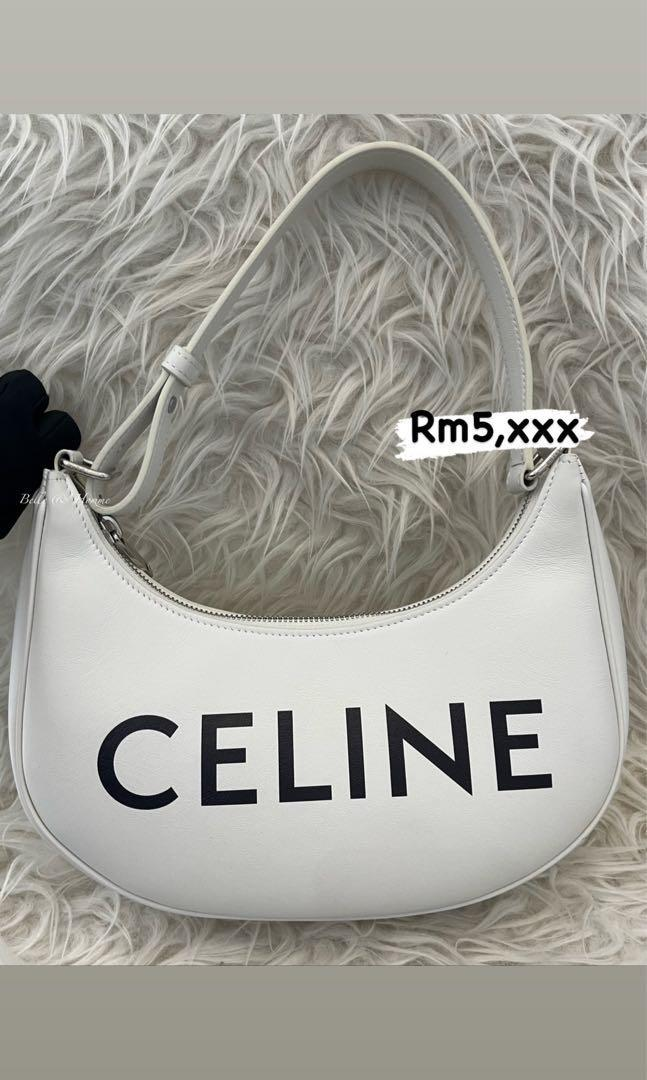CELINE: (96, 696, 554, 811)
